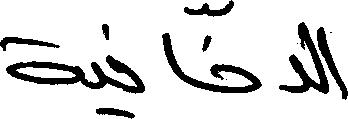X: (213, 0, 259, 97), (0, 32, 78, 89), (108, 21, 144, 118), (281, 17, 305, 97), (163, 3, 184, 86), (325, 27, 347, 104), (307, 22, 323, 97), (92, 19, 104, 118)
